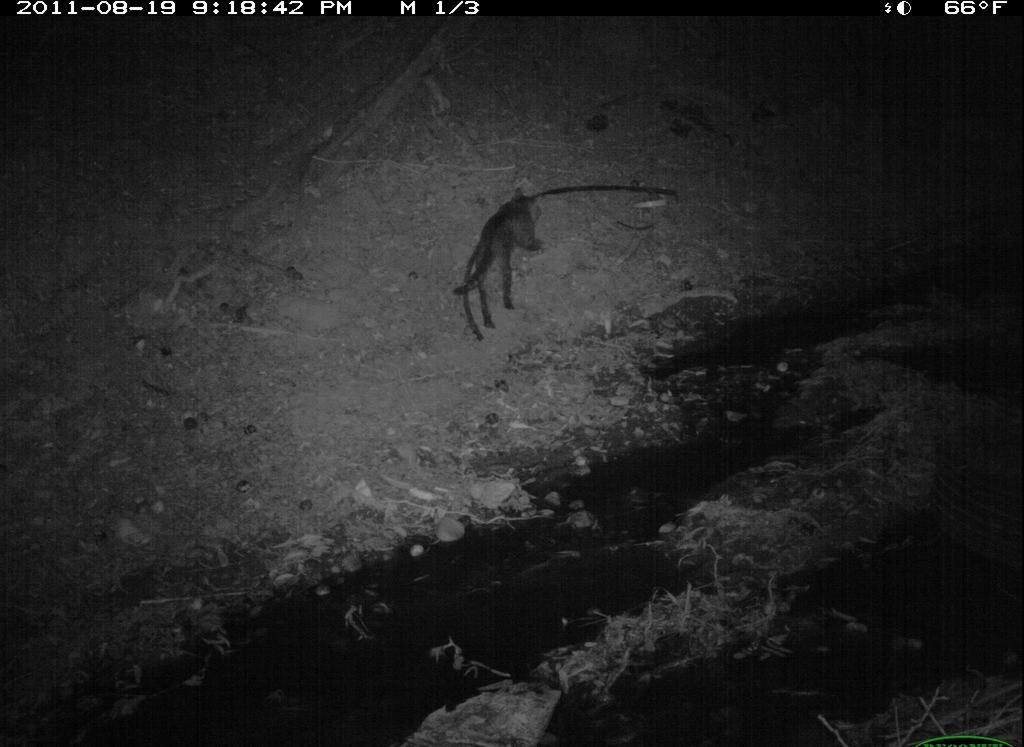cat: (450, 185, 553, 332)
